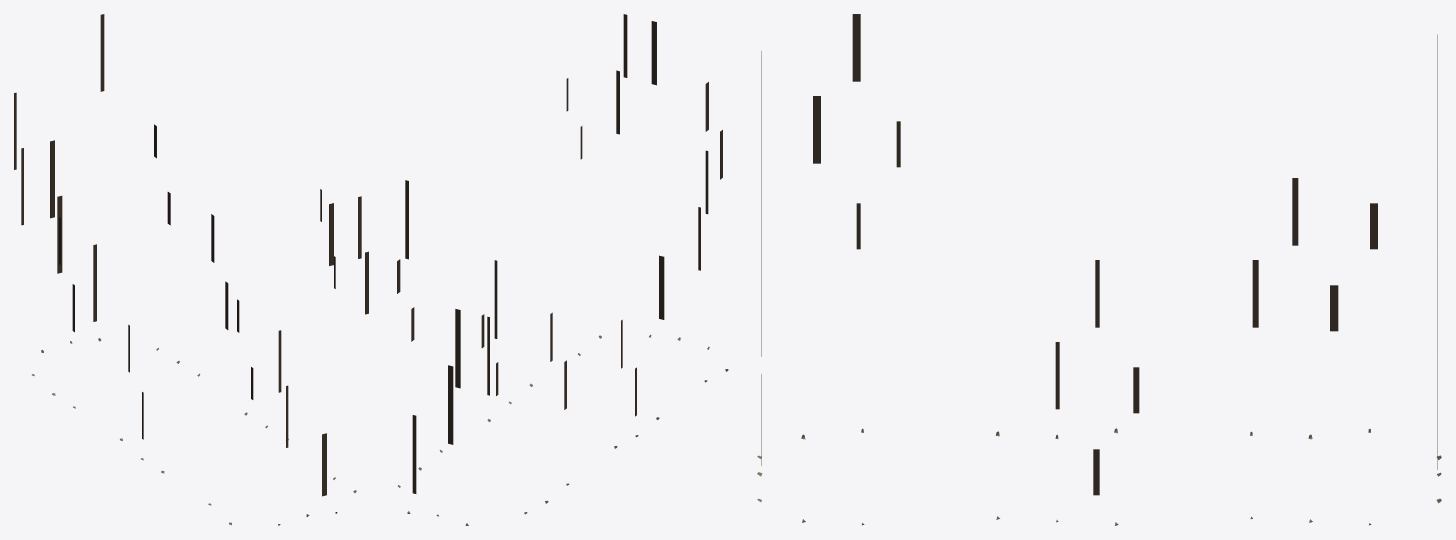
Rendered from crib_pier_20x28x6_detail2.glb.
3 renders of one model, left to right at view 1: azimuth 30°, elevation 25°; view 2: azimuth 150°, elevation 25°; view 3: azimuth 270°, elevation 25°, orthographic. The views are drawn at different scales.
Visible parts, largest first — view 1: crib_pier_20x28x6_detail2_mesh; view 2: crib_pier_20x28x6_detail2_mesh; view 3: crib_pier_20x28x6_detail2_mesh.
Part boxes in pixels (x1=…): crib_pier_20x28x6_detail2_mesh: x1=14, y1=14, x2=368, y2=525; crib_pier_20x28x6_detail2_mesh: x1=397, y1=14, x2=728, y2=525; crib_pier_20x28x6_detail2_mesh: x1=757, y1=14, x2=1441, y2=525.
Bounding box in the file's own units: 6.24 × 15.29 × 20.24.
